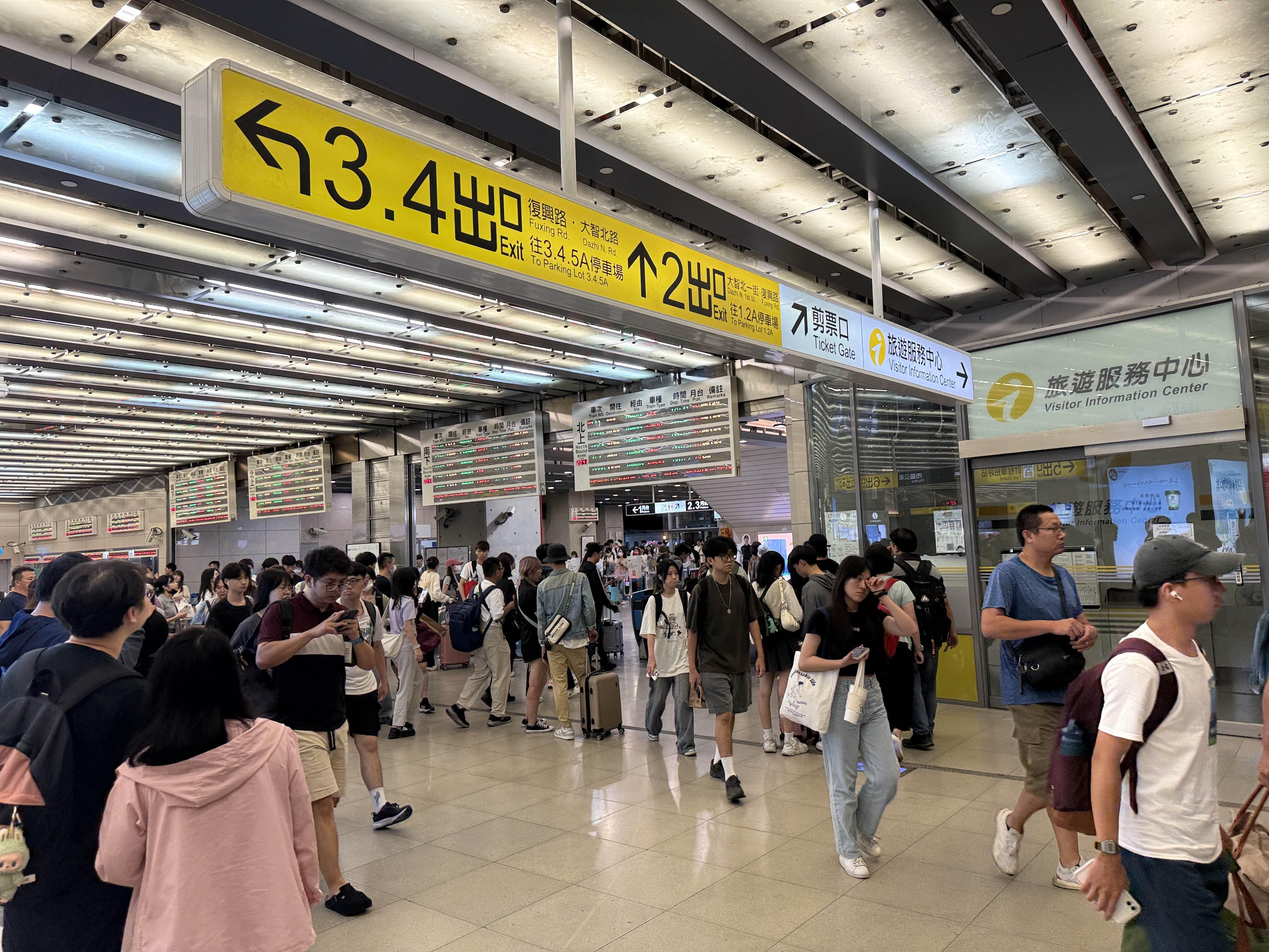NoHelmet: (1131, 531, 1227, 617), (1017, 504, 1067, 561), (837, 555, 871, 604), (703, 535, 735, 572), (890, 526, 918, 555), (657, 558, 680, 590), (546, 543, 572, 569), (483, 557, 505, 582)
